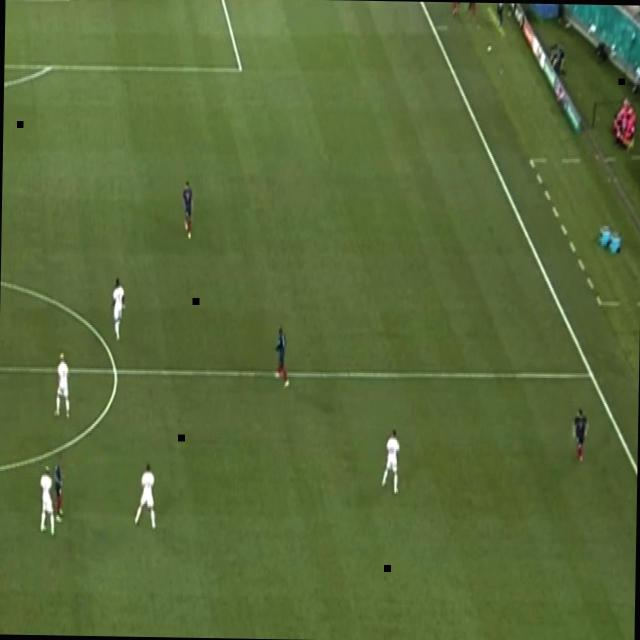ball: (486, 44, 492, 52)
player-white: (133, 461, 159, 533), (40, 465, 59, 537), (382, 428, 402, 495), (54, 350, 71, 420), (273, 326, 291, 392), (572, 406, 590, 466), (111, 276, 127, 342), (52, 455, 66, 526), (182, 179, 194, 241)
